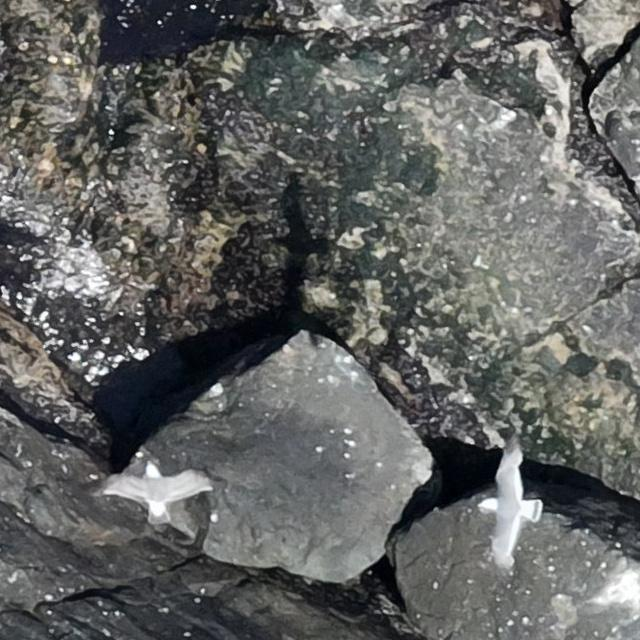F: (484, 446, 544, 560), (110, 463, 210, 518)
